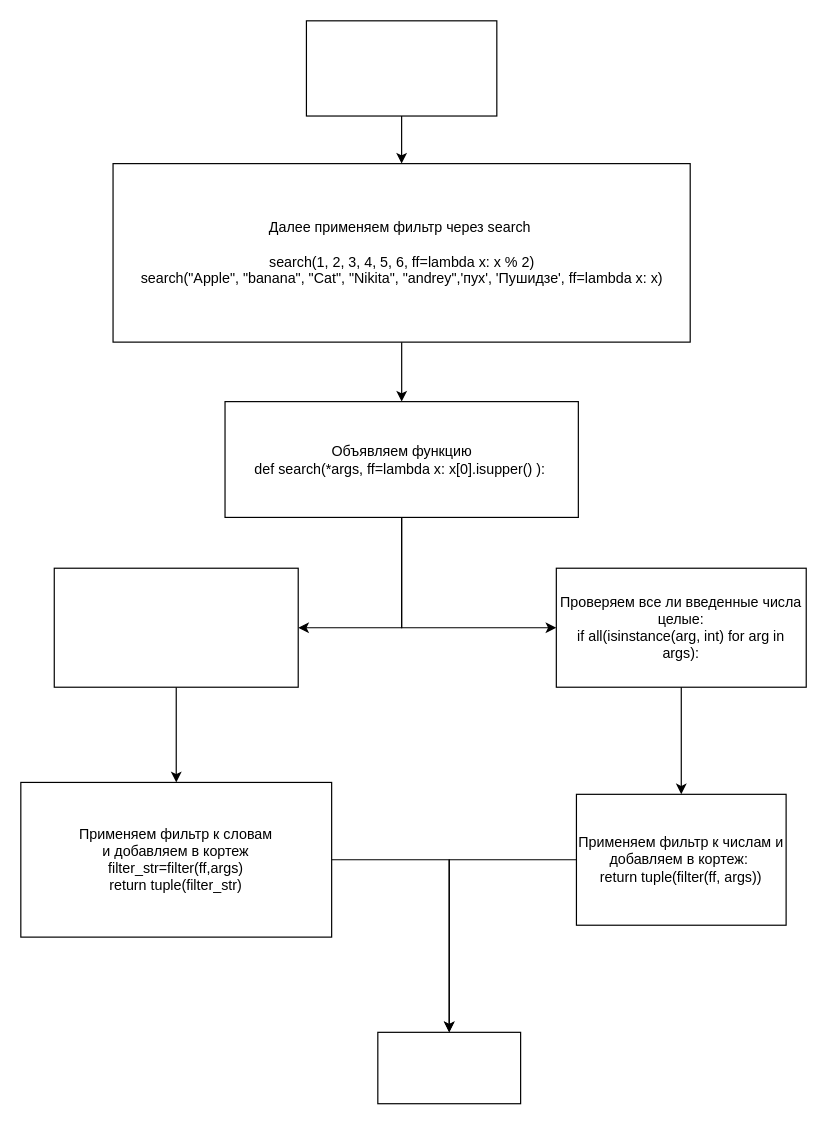
The diagram is 827 pixels wide and 1125 high, and some of its shapes have lost their labels. The shapes that lost their labels are listed below. From the top down, each one's centre as x and y in pixels, then its label:
(x=401, y=68): вводиться значение
(x=175, y=627): Если введенные данные слова elif all(isinstance(arg, str) for arg in args):
(x=449, y=1067): Вывод данных
